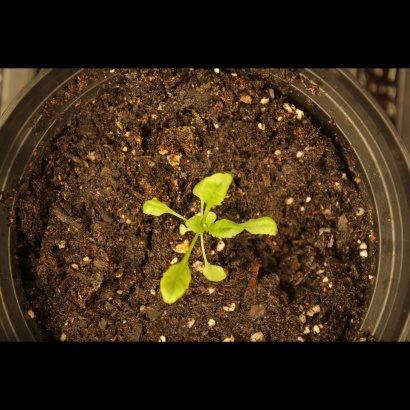leaf: (158, 252, 194, 308), (192, 165, 235, 211), (137, 190, 175, 227), (244, 211, 281, 245), (208, 216, 244, 244), (201, 259, 232, 291), (186, 213, 209, 236)
